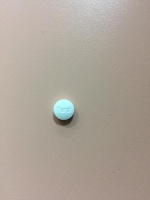Parol: (52, 98, 76, 123)
